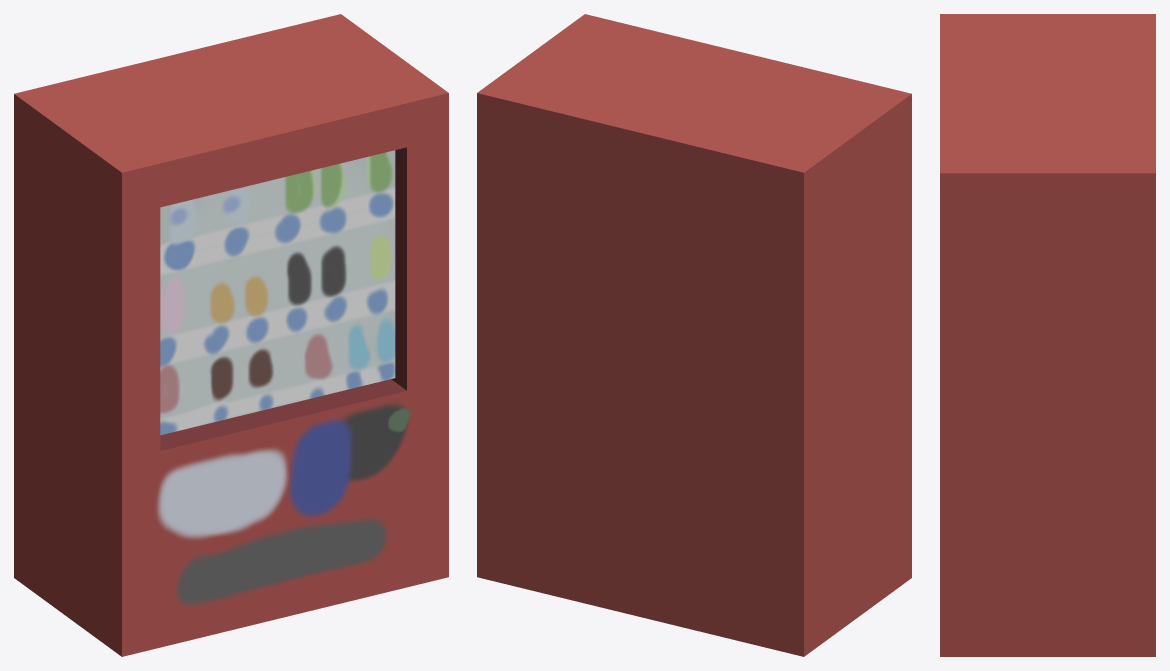
Rendered from vending_machine.glb.
The picture shows the model from 3 angles, left to right: view 1: azimuth 30°, elevation 25°; view 2: azimuth 150°, elevation 25°; view 3: azimuth 270°, elevation 25°; orthographic projection.
Parts seen in each view (by area): view 1: Cube.016, Plane.002; view 2: Cube.016; view 3: Cube.016.
Part boxes in pixels (box(x1,y1,x2,y2)): Cube.016: box(14, 14, 448, 656); Plane.002: box(160, 150, 395, 435); Cube.016: box(477, 14, 911, 656); Cube.016: box(940, 14, 1155, 656).
Bounding box in the file's own units: 3.28 × 4.64 × 1.88.
1 material, 1 textured.
